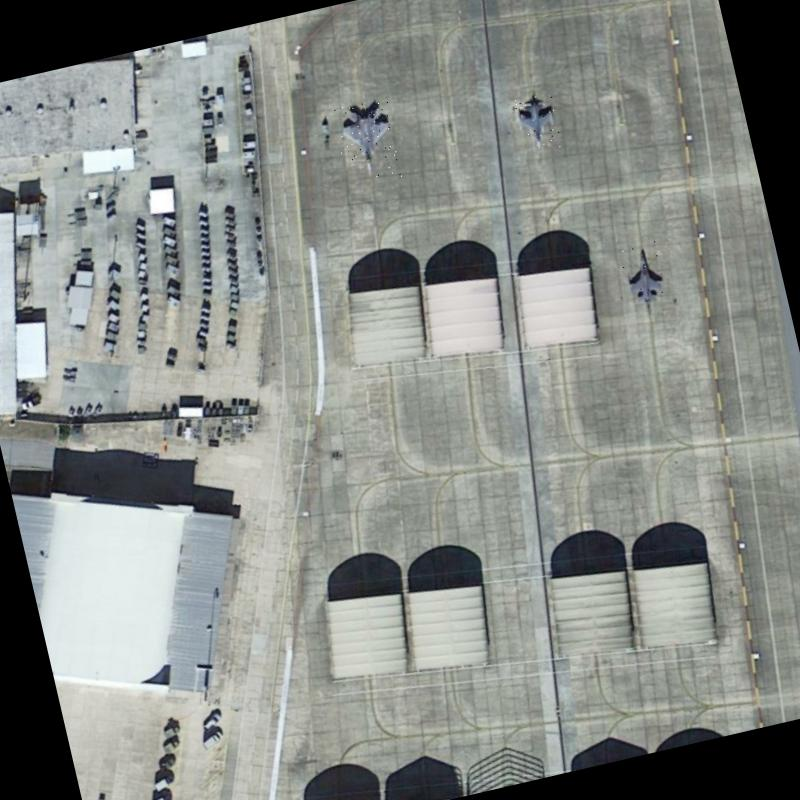A15: (330, 96, 405, 190)
A5: (618, 241, 670, 308), (512, 90, 565, 154)
